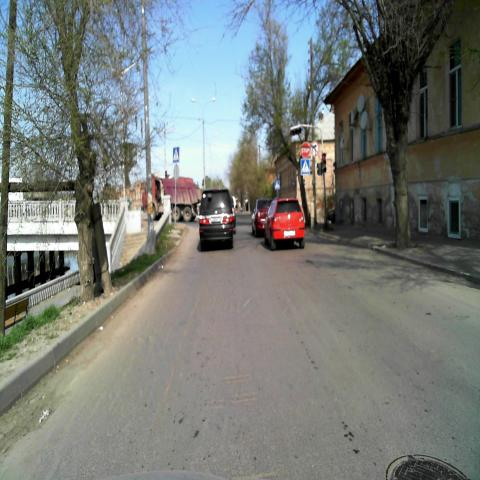2_5: (300, 142, 310, 157)
3_18: (311, 139, 318, 156)
